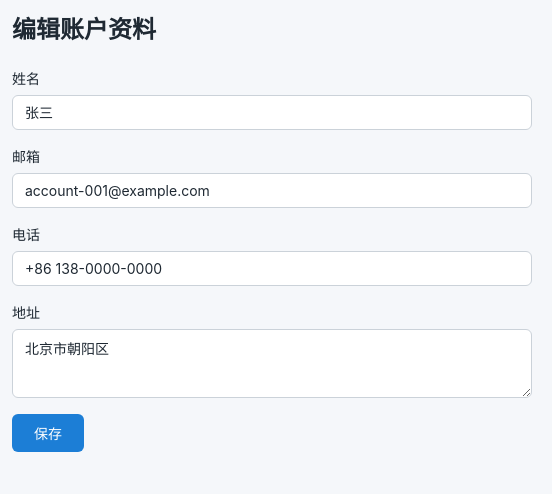
EditAccountForm 编辑账户（需求 2.3、2.6、2.7、2.14） › 校验失败时在对应字段旁显示错误并保留用户输入（需求 2.7、2.14）
Replace the text in the field labelled "邮箱" with "bad-email" at (272, 190), box [12,173,532,208]
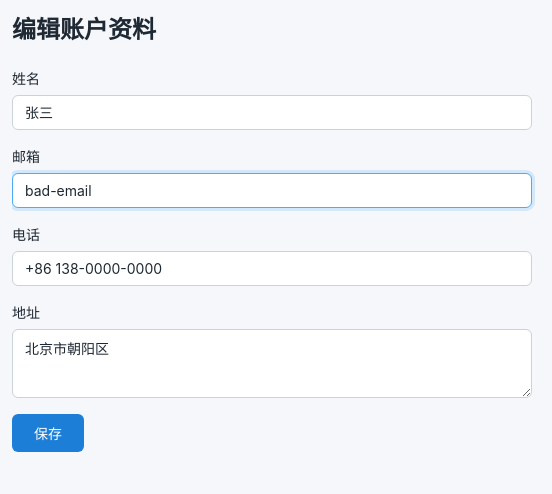
Click the button "保存".
click(48, 433)  # box [12,414,84,452]
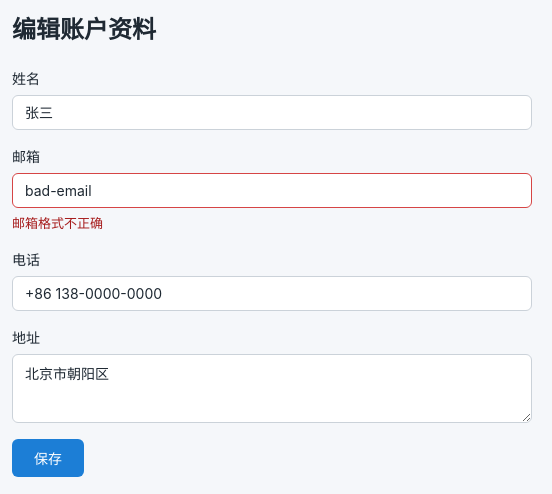
Check: the message reads "邮箱格式不正确", box [12,215,103,231]
